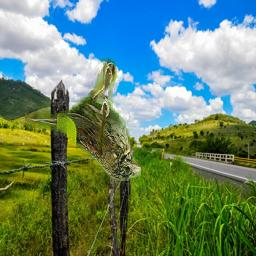Sparrow: (25, 59, 141, 182)
